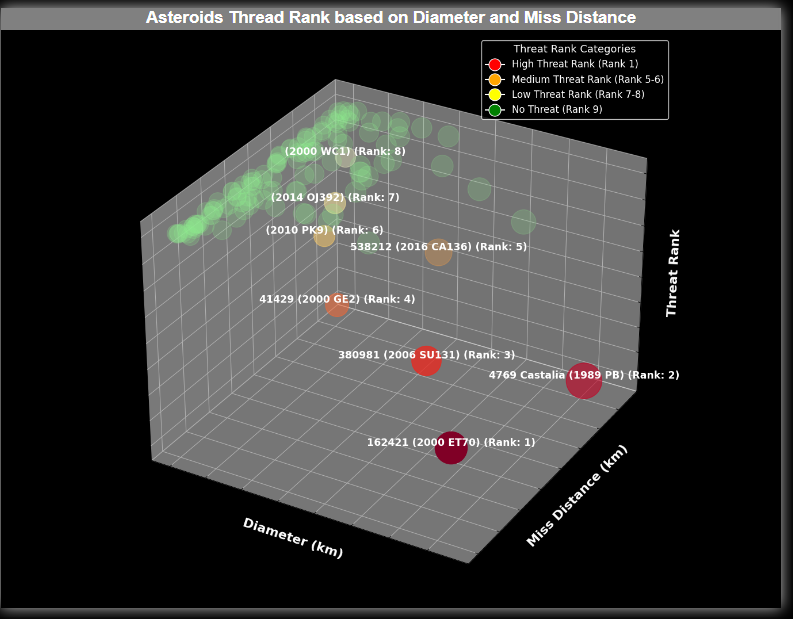

What the dashboard file says about the page in this screenshot:
{"tool":"powerbi","page":{"name":"dark version","canvas":[1300,1000],"ordinal":0},"visuals":[{"type":"pythonVisual","title":"Asteroids Thread Rank based on Diameter and Miss Distance ","fields":{"Values":["neo_df.Diameter_Max_KM","neo_df.Hazard_Classification","neo_df.Miss_Distance_KM","neo_df.Threat_Rank","neo_df.Name.1"]},"box":[0,0,1300,1000],"z":0}]}

Visuals, with their boxes in screenshot pixels (x1, y1, x2, y2), scaled from the page's 1300x1000 canvas onto the 793x619 screenshot:
"Asteroids Thread Rank based on Diameter and Miss Distance " pythonVisual: BBox(0, 0, 792, 618)
